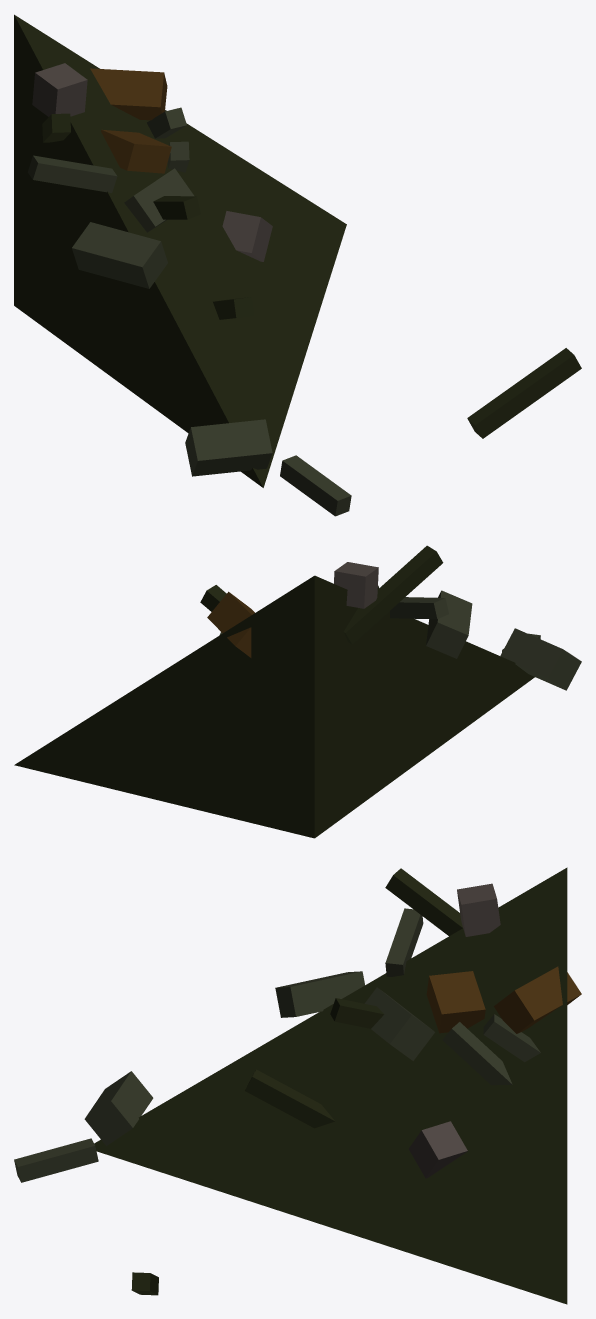
The model's file is SM_PilaZombi_RemateDer_Altura4_s0_LOD1.fbx.
3 views of the same model, one above another, from view 1: azimuth 30°, elevation 25°; view 2: azimuth 150°, elevation 25°; view 3: azimuth 270°, elevation 25° (orthographic). The views are drawn at different scales.
Parts seen in each view (by area): view 1: SM_pila_zombis_v3_LOD1; view 2: SM_pila_zombis_v3_LOD1; view 3: SM_pila_zombis_v3_LOD1.
Boxes of the visible parts, x1=… form: SM_pila_zombis_v3_LOD1: x1=14, y1=14, x2=581, y2=516; SM_pila_zombis_v3_LOD1: x1=14, y1=545, x2=581, y2=838; SM_pila_zombis_v3_LOD1: x1=14, y1=867, x2=581, y2=1304.
Bounding box in the file's own units: 3.01 × 2.27 × 3.76.
